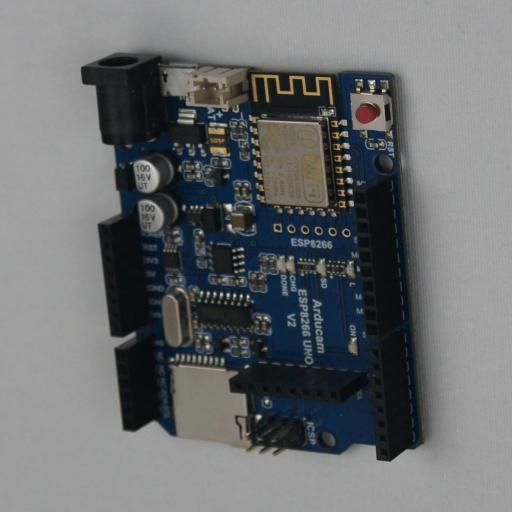Arduino Uno Camera Shield: (81, 52, 429, 462)
